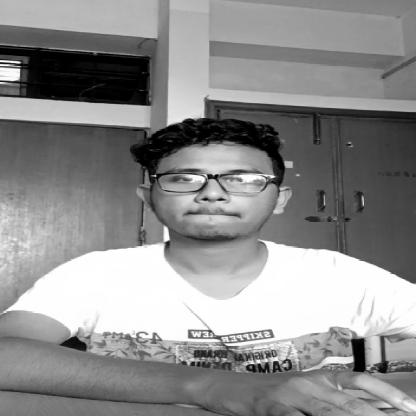Normal: (112, 112, 305, 247)
